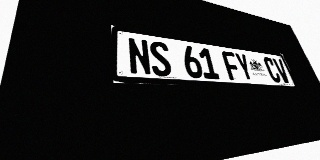1: (197, 47, 220, 79)
6: (181, 45, 204, 79)
C: (262, 57, 282, 83)
F: (221, 51, 243, 81)
N: (127, 37, 152, 76)
S: (148, 40, 173, 77)
V: (272, 58, 292, 83)
Y: (234, 52, 255, 81)
